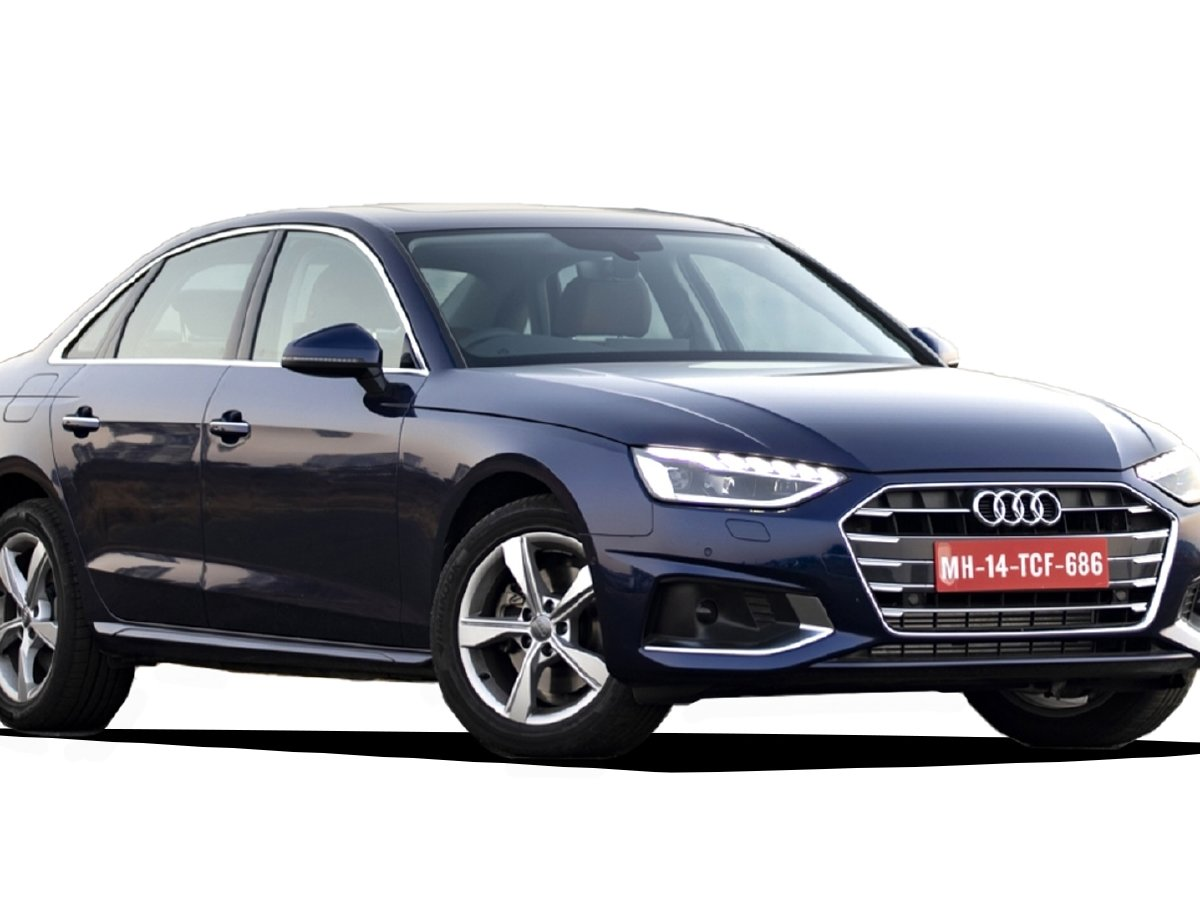car: (7, 206, 1196, 770)
